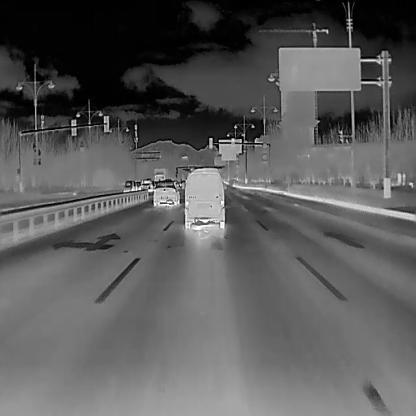car: (183, 167, 225, 229), (152, 180, 179, 206), (154, 166, 165, 180), (139, 177, 151, 189), (124, 180, 135, 190)
